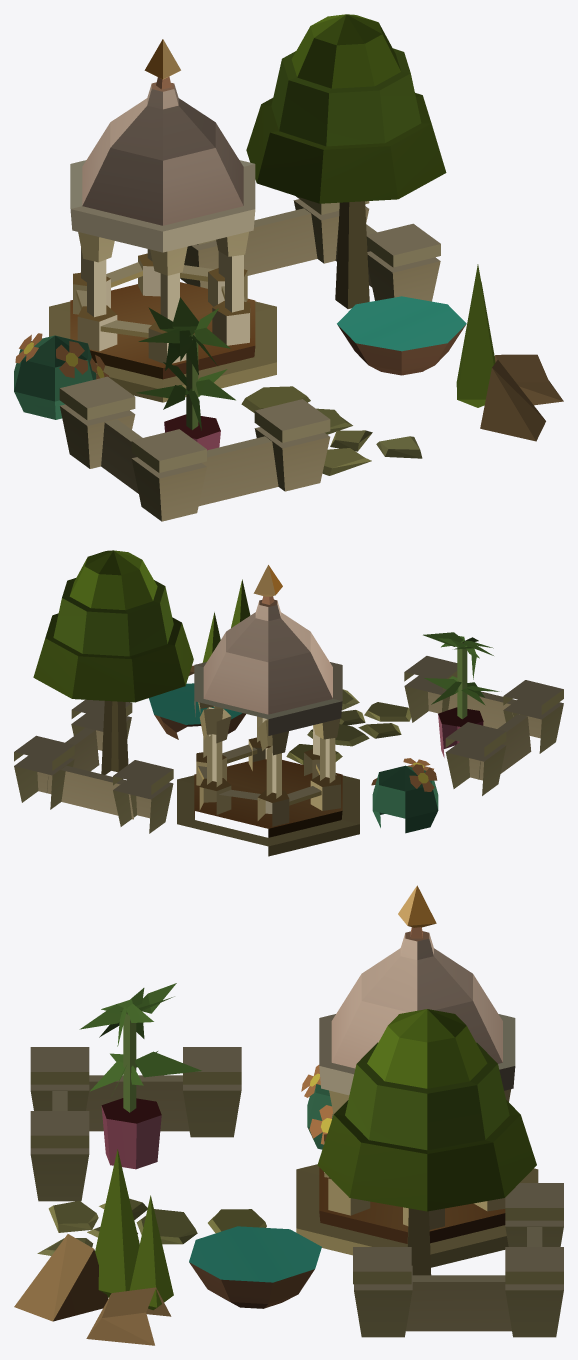
Rendered from city-decor14.fbx.
3 renders of one model, top to bottom at view 1: azimuth 30°, elevation 25°; view 2: azimuth 150°, elevation 25°; view 3: azimuth 270°, elevation 25°, orthographic. The views are drawn at different scales.
Parts seen in each view (by area): view 1: city-decor14; view 2: city-decor14; view 3: city-decor14.
Boxes of the visible parts, left/top/right/bottom form: city-decor14: left=14, top=14, right=563, bottom=521; city-decor14: left=14, top=550, right=563, bottom=856; city-decor14: left=14, top=885, right=563, bottom=1345.
Bounding box in the file's own units: 3.29 × 2.1 × 3.18.
1 material, 1 textured.
